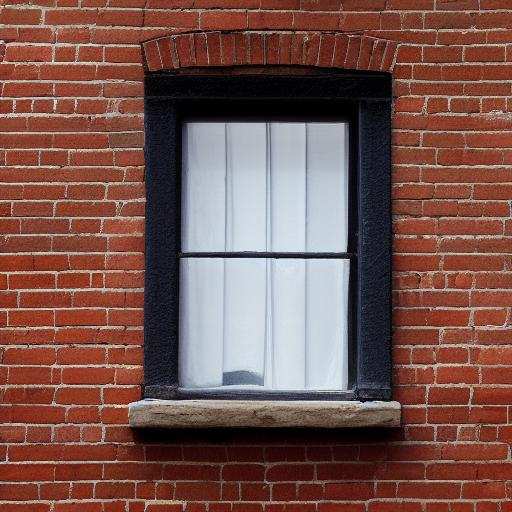Window: (127, 33, 403, 438)
